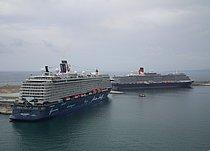Ship: (8, 57, 115, 124)
